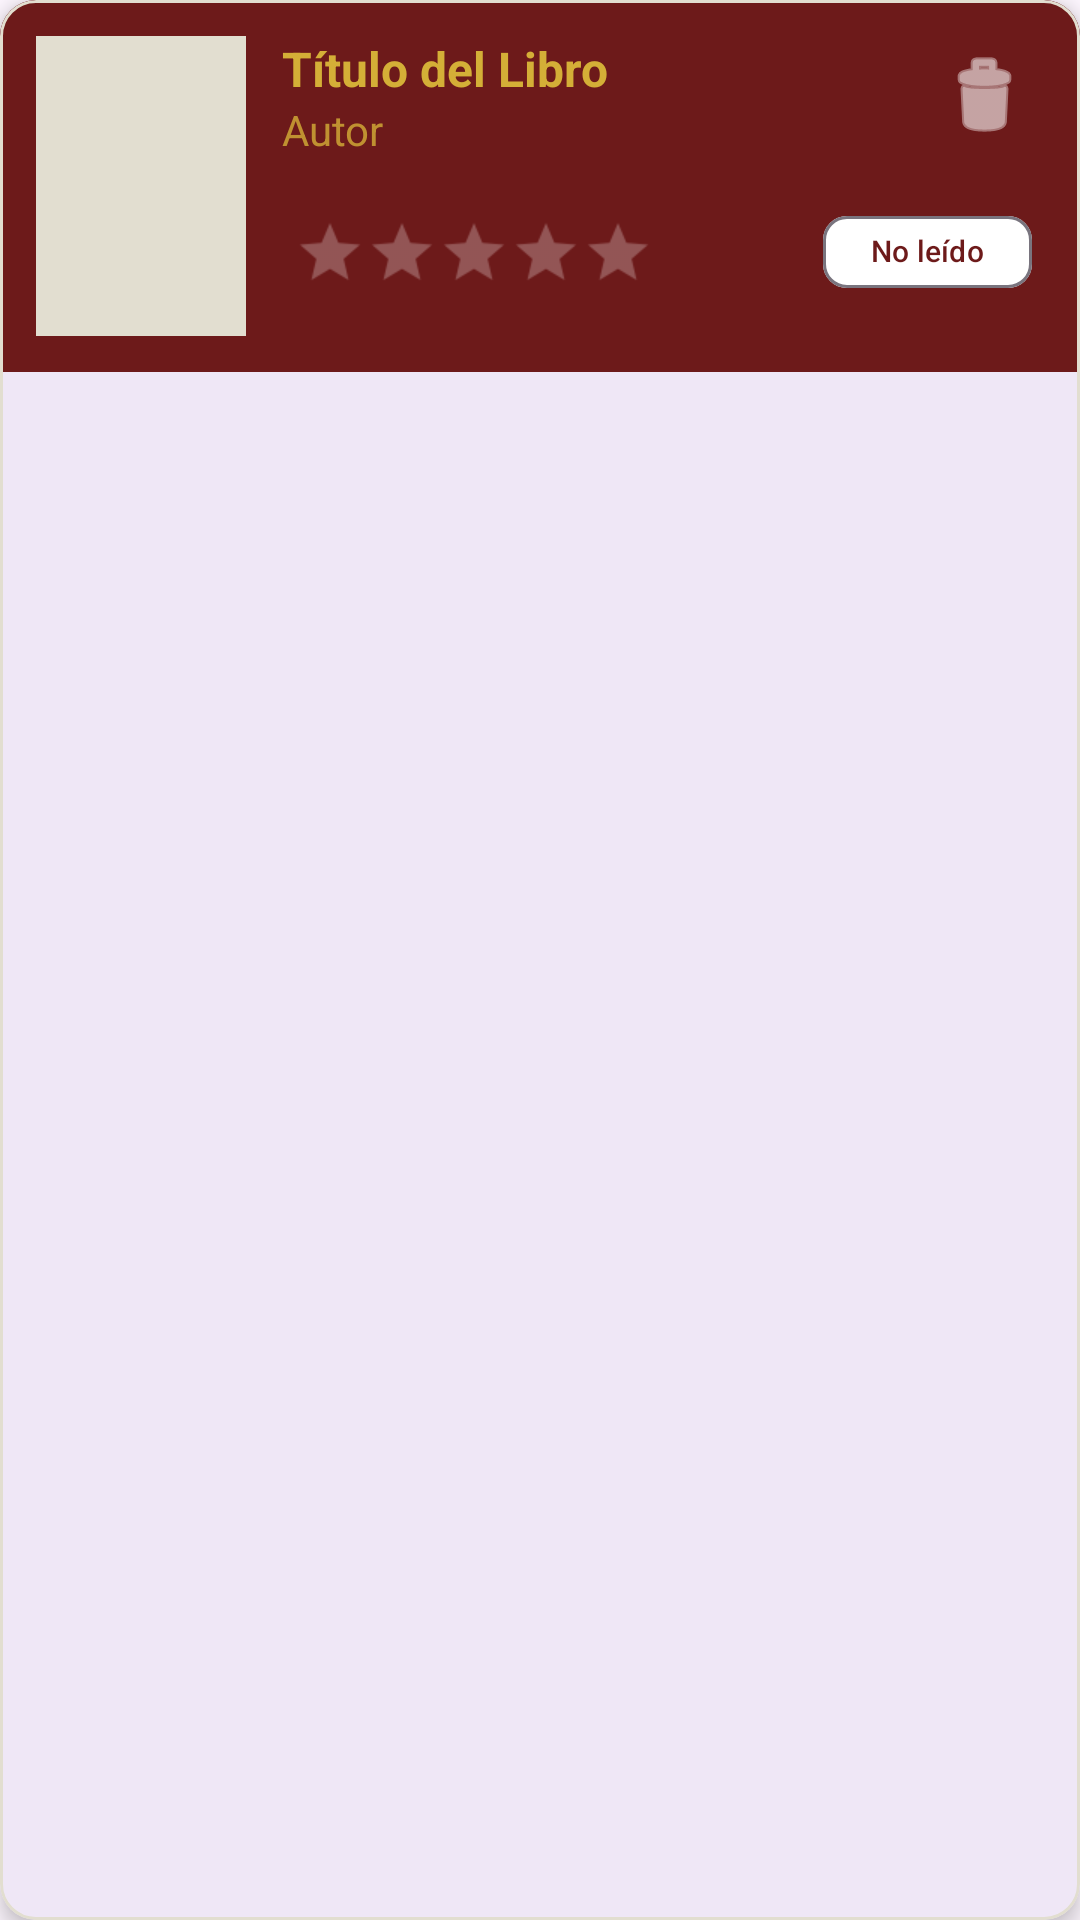

Locate icon controls on the screen. Image size 1080×1920, boxes as (x1, y1, x2, y2).
Eliminar libro: (957, 57, 1012, 132)
